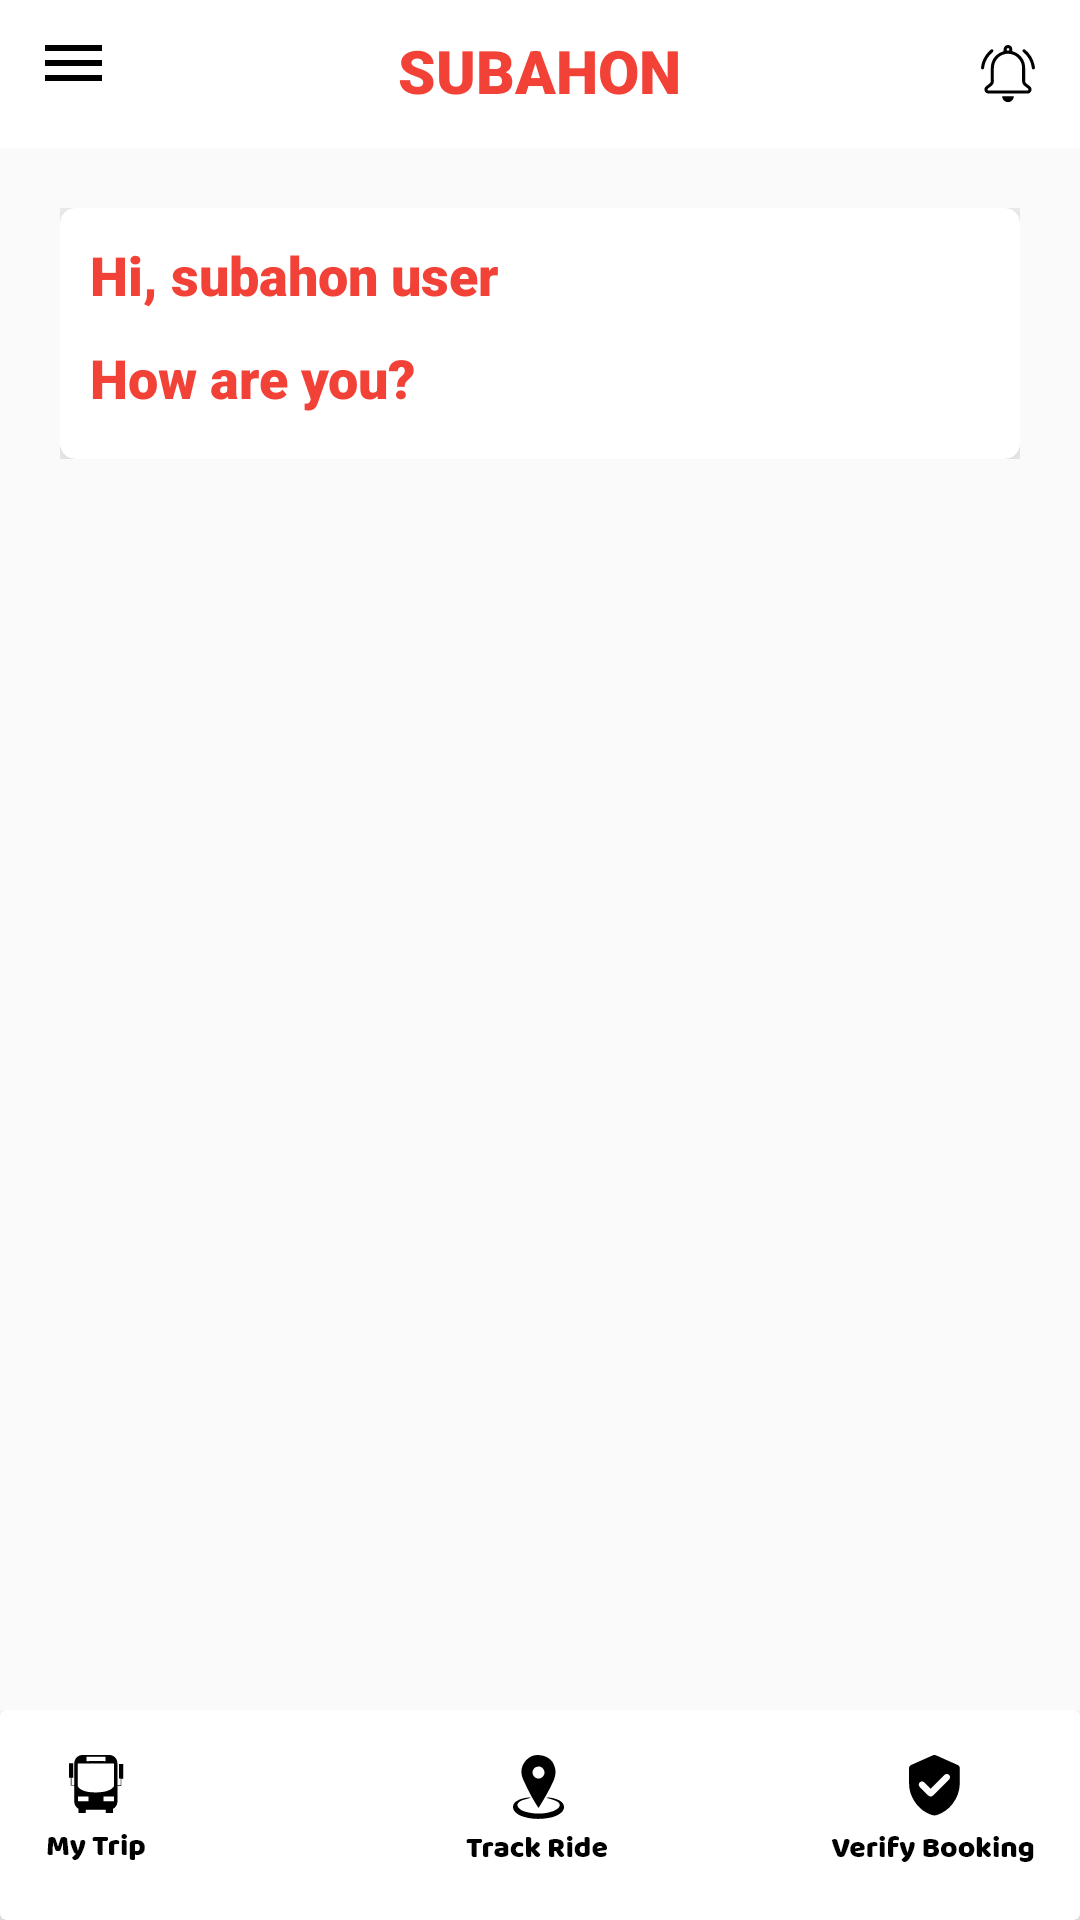

Icon click points for this 1080x1920 phone screenshot, format point (x, y):
barmenu: point (73, 63)
bellicon: point (1008, 73)
